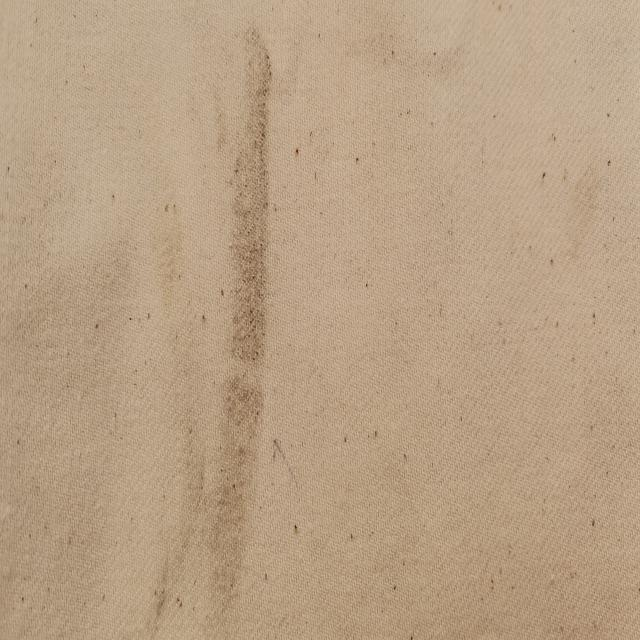taaaches: (178, 42, 304, 620), (146, 580, 171, 634)
